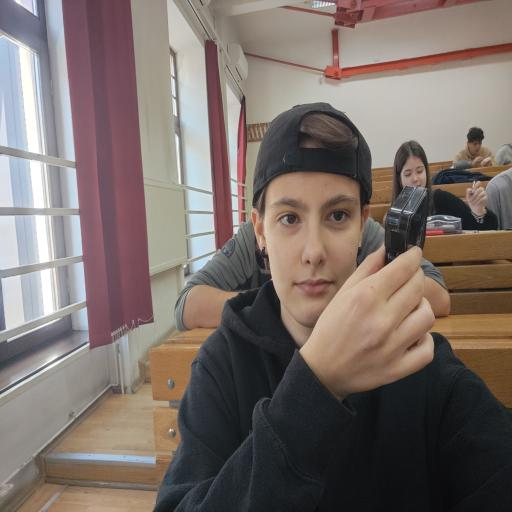Headphones: (384, 185, 429, 271)
